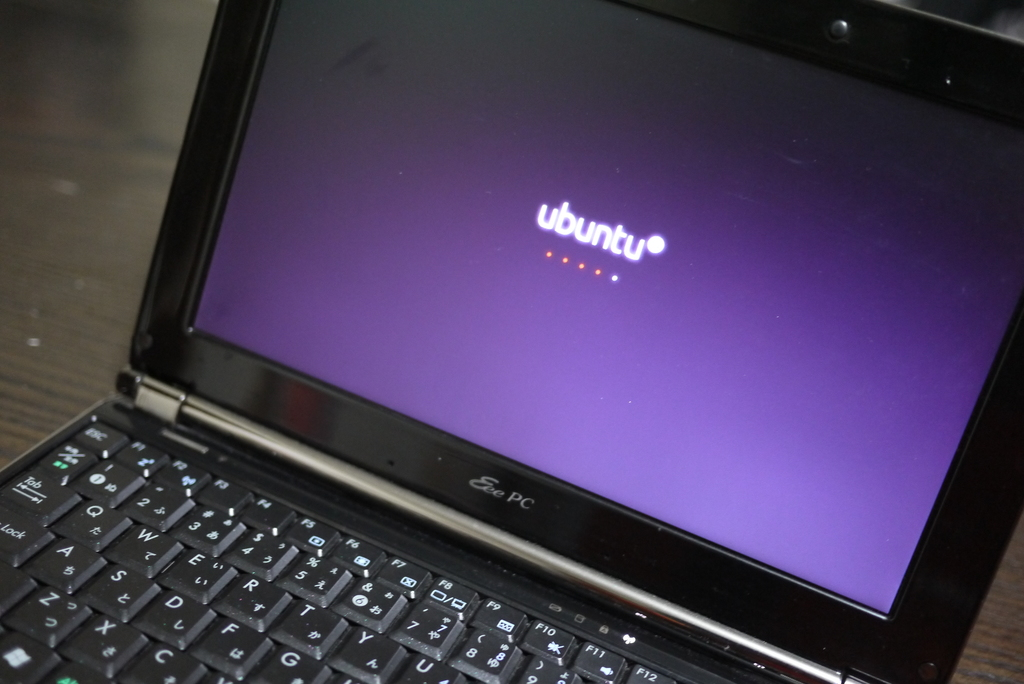Laptop: (0, 0, 1023, 683)
